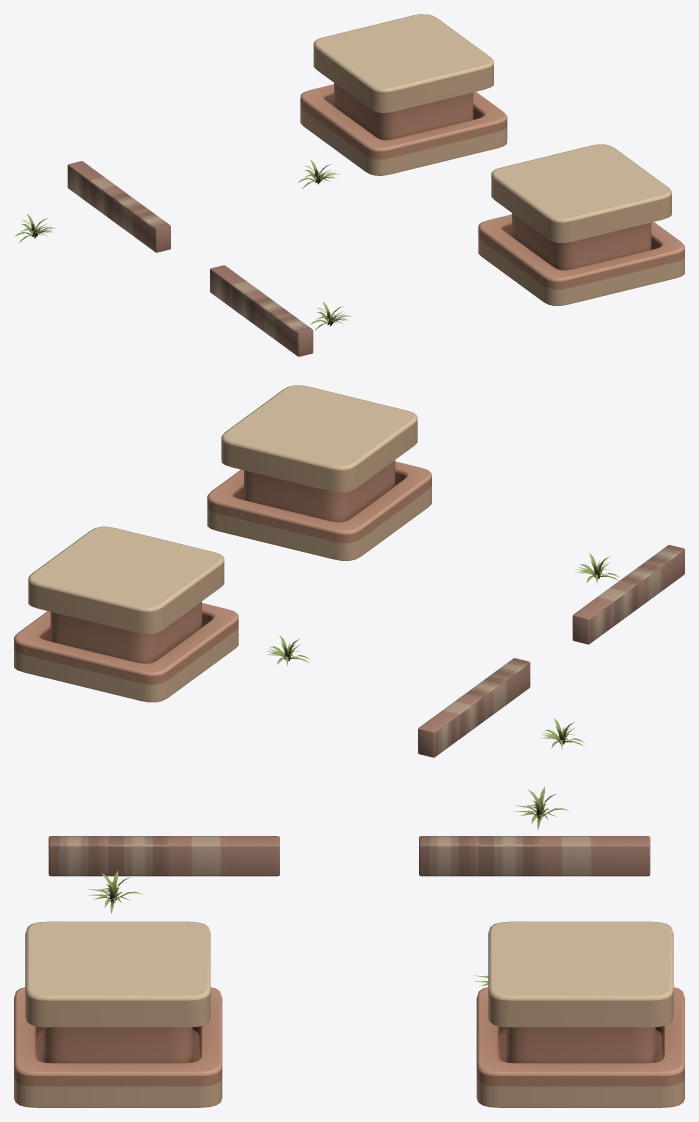
The model's file is zudang.fbx.
3 views of the same model, one above another, from view 1: azimuth 30°, elevation 25°; view 2: azimuth 150°, elevation 25°; view 3: azimuth 270°, elevation 25° (orthographic). The views are drawn at different scales.
Parts seen in each view (by area): view 1: Box (1), Box, Box20-3_2 (1), Box20-3_2; view 2: Box (1), Box, Box20-3_2, Box20-3_2 (1); view 3: Box, Box (1), Box20-3_2 (1), Box20-3_2, Grass, Grass (1).
Boxes of the visible parts, x1,y1,x2,y2 form: Box (1): [300, 14, 507, 175]; Box: [478, 144, 684, 305]; Box20-3_2 (1): [67, 161, 170, 252]; Box20-3_2: [210, 265, 313, 356]; Box (1): [14, 526, 238, 702]; Box: [207, 385, 431, 560]; Box20-3_2: [572, 545, 684, 644]; Box20-3_2 (1): [418, 658, 530, 757]; Box: [14, 921, 222, 1107]; Box (1): [476, 921, 684, 1107]; Box20-3_2 (1): [419, 836, 650, 876]; Box20-3_2: [48, 836, 279, 876]; Grass: [88, 870, 142, 914]; Grass (1): [514, 787, 569, 830].
Bounding box in the file's own units: 30.87 × 5.04 × 29.
